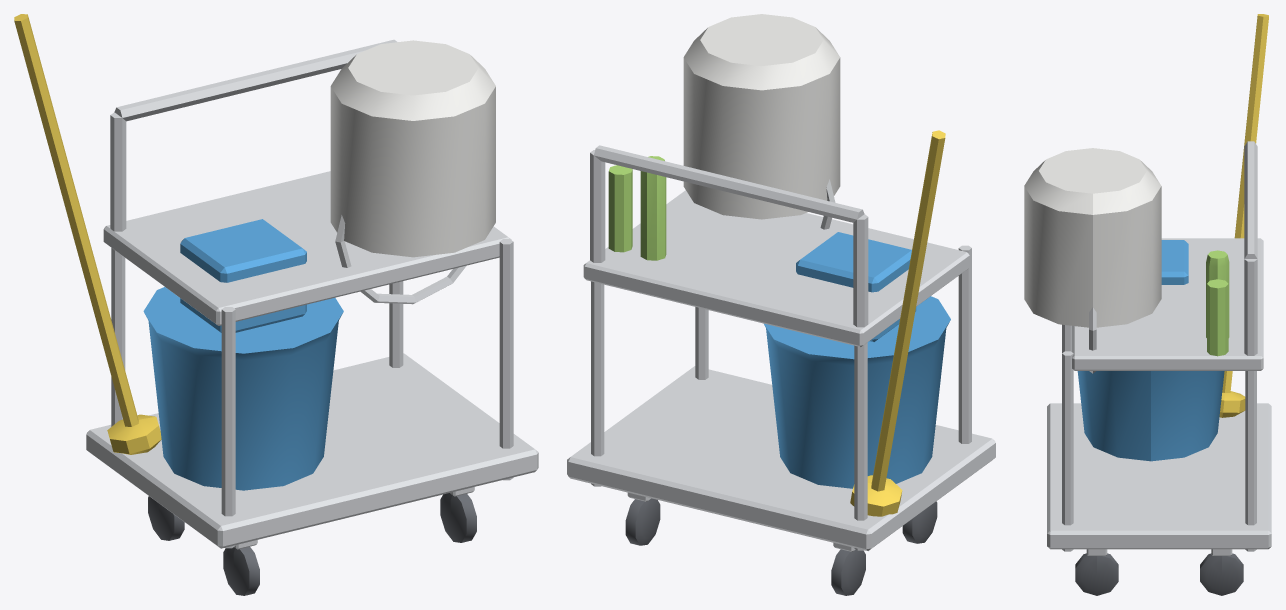
Rendered from trampoline-park-and-soft-play-cleaning-trolley-83273c52__34647.glb.
3 renders of one model, left to right at view 1: azimuth 30°, elevation 25°; view 2: azimuth 150°, elevation 25°; view 3: azimuth 270°, elevation 25°, orthographic. The views are drawn at different scales.
Parts seen in each view (by area): view 1: cleaning-trolley, wheel; view 2: cleaning-trolley, wheel; view 3: cleaning-trolley, wheel.
Part boxes in pixels (<box>): cleaning-trolley: <box>14,14,538,549</box>; wheel: <box>148,493,476,595</box>; cleaning-trolley: <box>567,14,995,551</box>; wheel: <box>625,498,937,595</box>; cleaning-trolley: <box>1024,14,1271,555</box>; wheel: <box>1075,553,1243,595</box>.
Bounding box in the file's own units: 0.9127 × 1.17 × 0.595.
